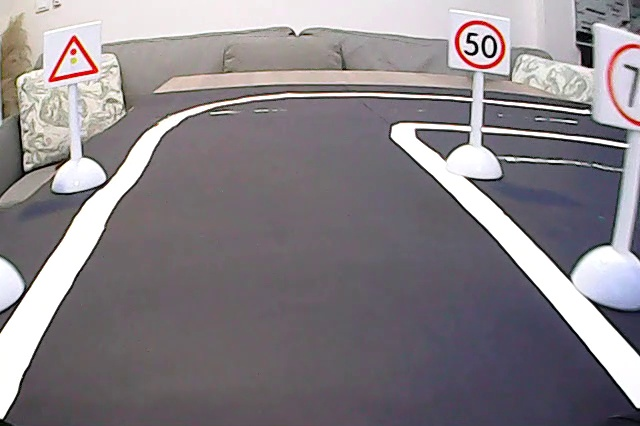red light: (46, 32, 103, 82)
speed limit 50: (452, 17, 507, 72)
